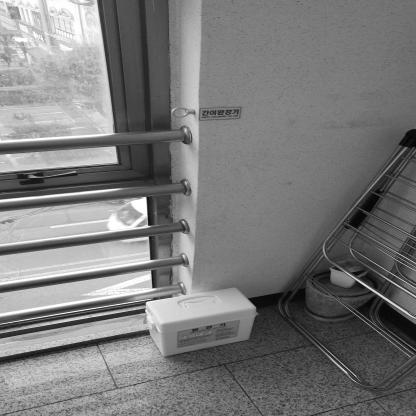DDL: (145, 287, 259, 357)
